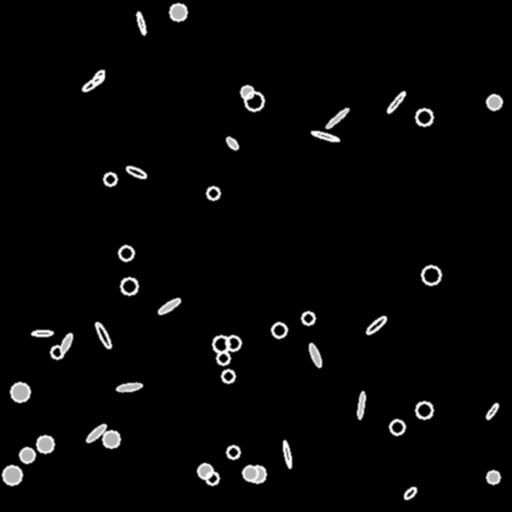pseudomonas: (364, 314, 388, 336), (325, 107, 349, 129), (94, 321, 112, 349), (81, 73, 105, 93), (386, 90, 406, 114), (85, 423, 107, 443), (157, 297, 181, 315), (310, 129, 340, 143), (307, 343, 323, 367), (59, 332, 73, 354), (125, 165, 147, 179), (484, 402, 500, 420), (90, 68, 106, 86), (282, 441, 292, 467), (116, 382, 142, 392), (224, 135, 240, 151), (136, 12, 146, 34), (357, 392, 365, 418), (403, 486, 417, 500), (31, 330, 53, 336)
synechocystis: (3, 466, 21, 484), (422, 266, 440, 284), (11, 383, 29, 401), (245, 92, 263, 110), (121, 278, 137, 294), (249, 466, 265, 482), (416, 109, 432, 125), (37, 436, 53, 452), (213, 336, 229, 352), (416, 402, 432, 418), (170, 4, 186, 20), (103, 431, 119, 447), (20, 448, 34, 462), (226, 336, 240, 350), (487, 95, 501, 109), (390, 420, 404, 434), (119, 246, 133, 260), (243, 466, 257, 480), (272, 323, 286, 337), (198, 464, 212, 478), (51, 346, 63, 358), (207, 187, 219, 199), (222, 370, 234, 382), (104, 173, 116, 185), (241, 86, 253, 98), (217, 352, 229, 364), (487, 471, 499, 483), (302, 312, 314, 324), (227, 446, 239, 458), (206, 472, 218, 484)
